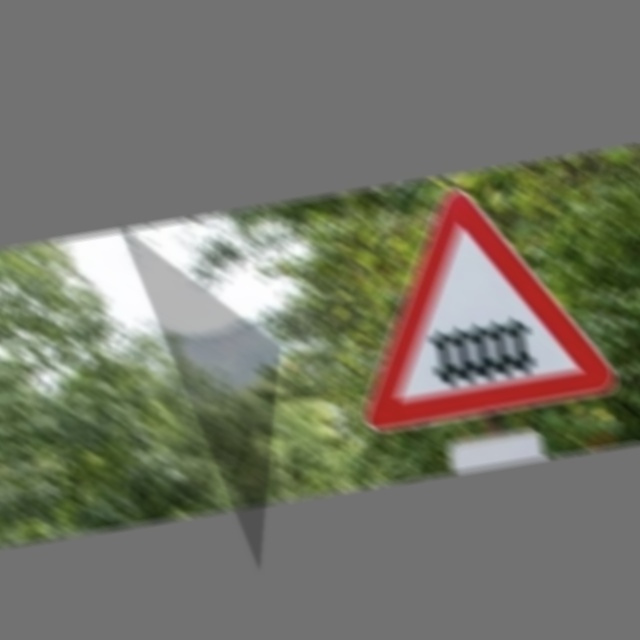Guarded_Level_Crossing: (338, 170, 620, 434)
